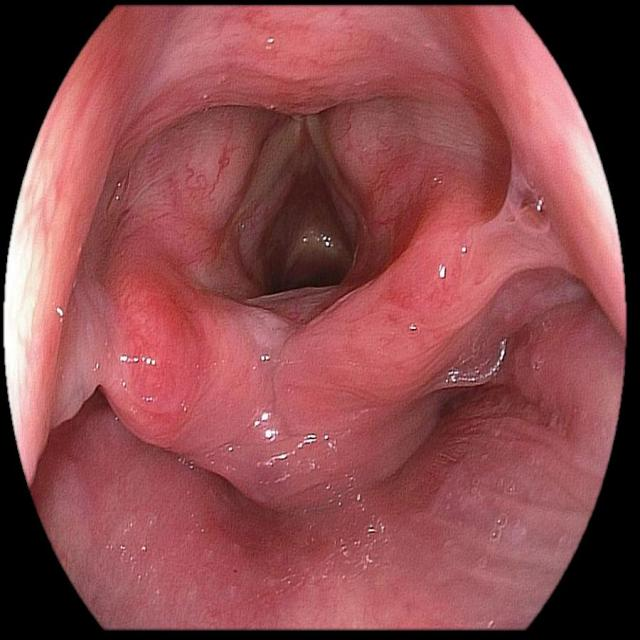arytenoid cartilagerotation: (97, 220, 540, 516)
epiglottisrotation: (2, 2, 628, 490)
larynxrotation: (236, 115, 365, 302)
